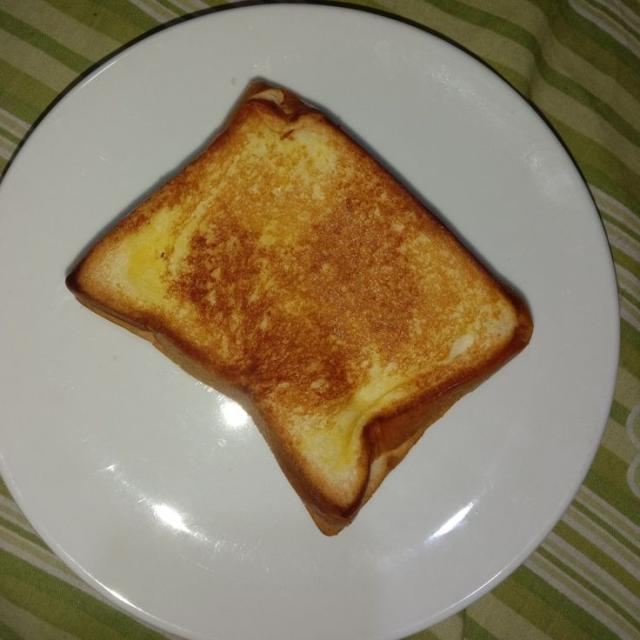toast bread: (67, 82, 532, 534)
